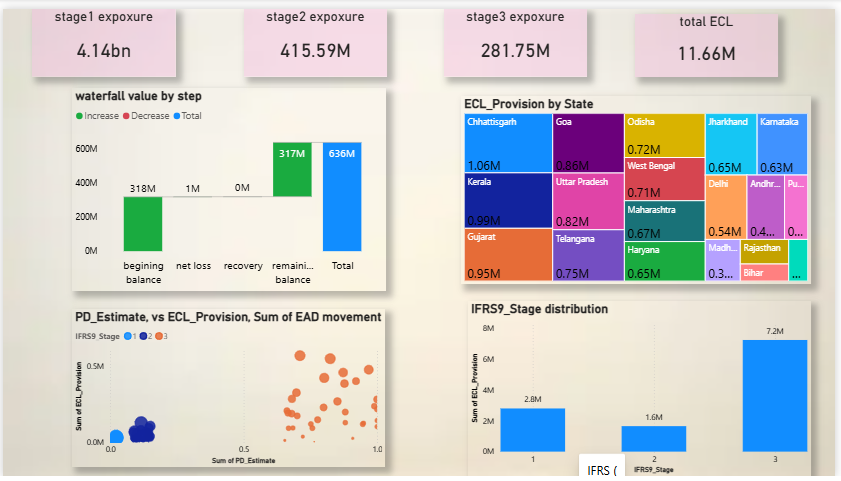

The dashboard page shown, as its layout file describes it:
{"tool":"powerbi","page":{"name":"IFRS (","canvas":[1280,720],"ordinal":3},"visuals":[{"type":"kpi","title":"stage1 expoxure  ","fields":{"Indicator":["loans.stage1 expoxure"],"TrendLine":["dpd.PoolID"]},"box":[43.9,0,221,103.9],"z":0},{"type":"kpi","title":"stage2 expoxure ","fields":{"Indicator":["loans.stage2 expoxure"],"TrendLine":["dpd.PoolID"]},"box":[370.2,0,219.5,103.9],"z":1000},{"type":"kpi","title":"stage3 expoxure ","fields":{"Indicator":["loans.stage3 expoxure"],"TrendLine":["dpd.PoolID"]},"box":[679,0,219.5,103.9],"z":2000},{"type":"kpi","title":"total ECL","fields":{"Indicator":["loans.total ECL"],"TrendLine":["Date.Date"]},"box":[971.7,7.3,219.5,96.6],"z":3000},{"type":"waterfallChart","title":"waterfall value by step","fields":{"Category":["IFRS waterfall.step"],"Y":["Date.waterfall value"]},"box":[106.8,121.5,482.9,311.7],"z":4000},{"type":"clusteredColumnChart","title":"IFRS9_Stage distribution","fields":{"Category":["loans.IFRS9_Stage"],"Y":["Sum(loans.ECL_Provision)"]},"box":[715.7,449.3,527,270.7],"z":5000},{"type":"scatterChart","title":"PD_Estimate, vs ECL_Provision, Sum of EAD  movement","fields":{"X":["Sum(loans.PD_Estimate)"],"Y":["Sum(loans.ECL_Provision)"],"Series":["loans.IFRS9_Stage"],"Size":["Sum(loans.EAD)"],"Category":["loans.LoanID"]},"box":[106.6,460.8,482.4,243.4],"z":6000},{"type":"treemap","title":" ECL_Provision  by State","fields":{"Values":["Sum(loans.ECL_Provision)"],"Group":["loans.State"]},"box":[703.9,133.2,538.5,289.8],"z":7000}]}

Visuals, with their boxes in screenshot pixels (x1, y1, x2, y2), scaled from the page's 1280x720 canvas onto the 841x481 screenshot:
"stage1 expoxure  " kpi: region(29, 0, 174, 69)
"stage2 expoxure " kpi: region(243, 0, 387, 69)
"stage3 expoxure " kpi: region(446, 0, 590, 69)
"total ECL" kpi: region(638, 5, 783, 69)
"waterfall value by step" waterfallChart: region(70, 81, 387, 289)
"IFRS9_Stage distribution" clusteredColumnChart: region(470, 300, 816, 480)
"PD_Estimate, vs ECL_Provision, Sum of EAD  movement" scatterChart: region(70, 308, 387, 470)
" ECL_Provision  by State" treemap: region(462, 89, 816, 283)
